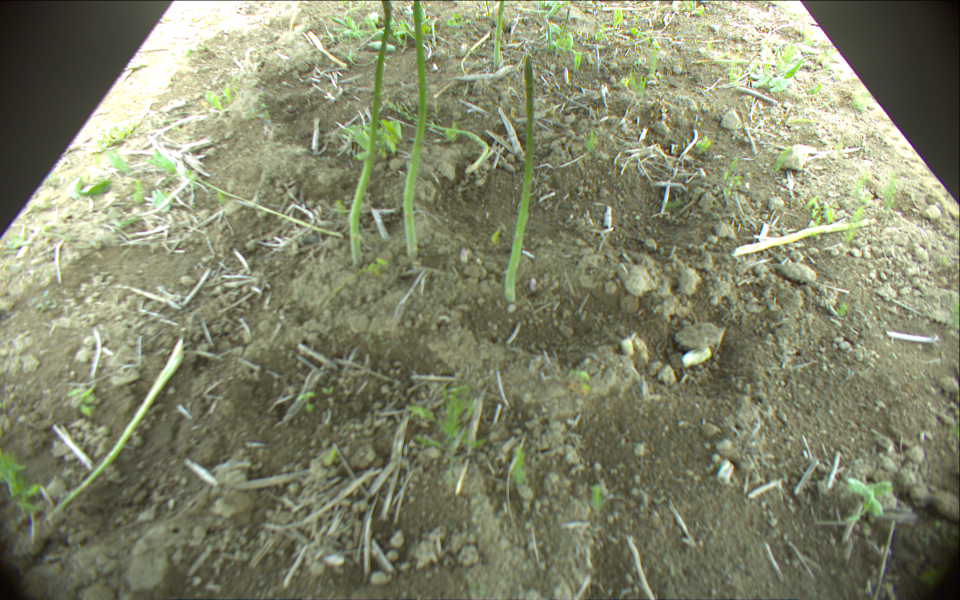aspa: (41, 334, 186, 529), (349, 1, 393, 266), (505, 56, 534, 301), (389, 103, 489, 174), (403, 1, 428, 258), (733, 218, 875, 256), (493, 1, 503, 67)
